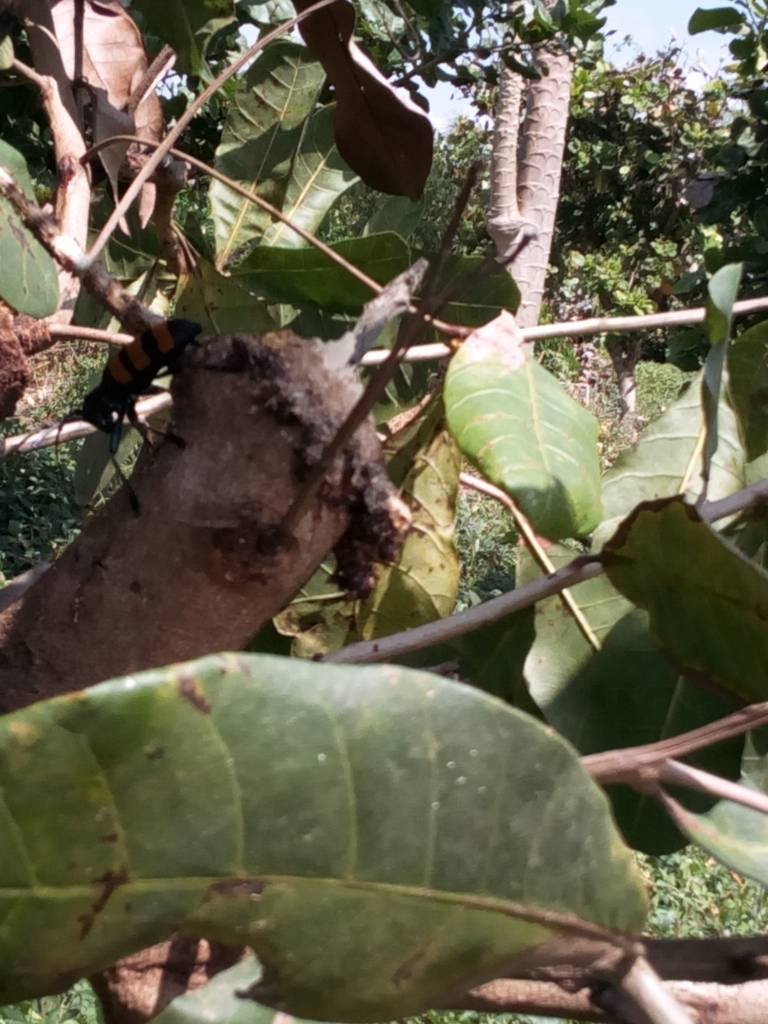Analepse trifasciata: (166, 324, 450, 566)
